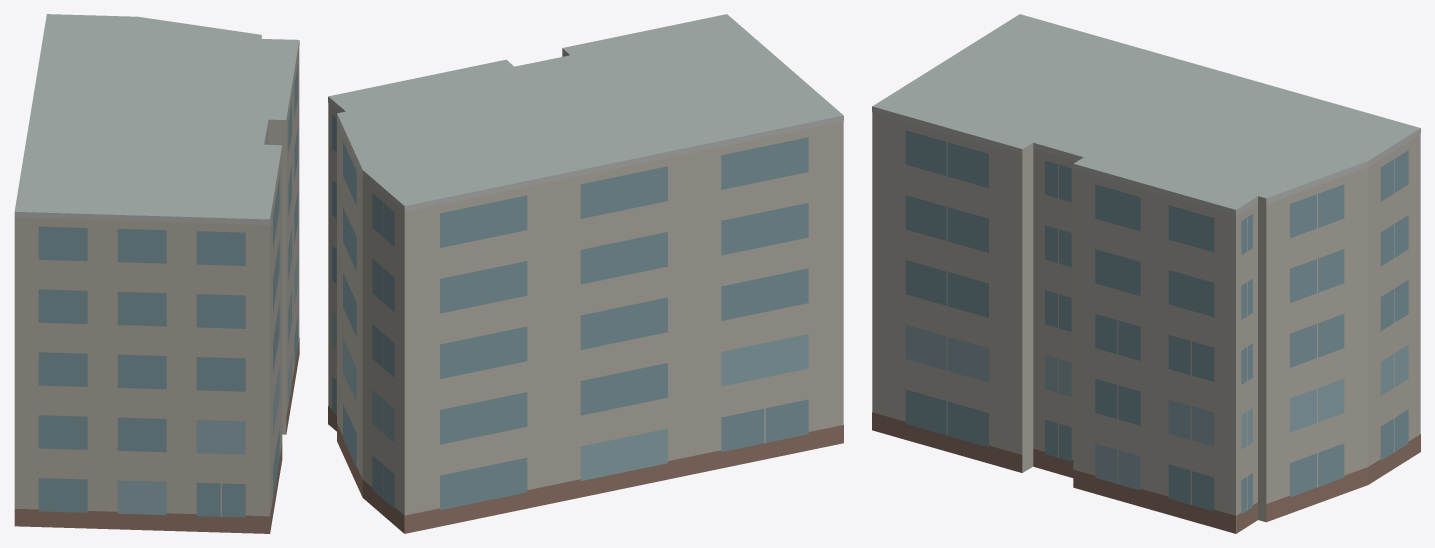
The model's file is survey-upis-32697560.glb.
3 views of the same model, side by side, from view 1: azimuth 30°, elevation 25°; view 2: azimuth 150°, elevation 25°; view 3: azimuth 270°, elevation 25° (orthographic). The views are drawn at different scales.
Visible parts, largest first — view 1: survey-upis-32697560.tmp; view 2: survey-upis-32697560.tmp; view 3: survey-upis-32697560.tmp.
Part boxes in pixels (x1,y1,x2,y2): survey-upis-32697560.tmp: (14, 14, 299, 533); survey-upis-32697560.tmp: (328, 14, 843, 533); survey-upis-32697560.tmp: (872, 14, 1420, 533).
Bounding box in the file's own units: 17.13 × 13.2 × 20.27.
